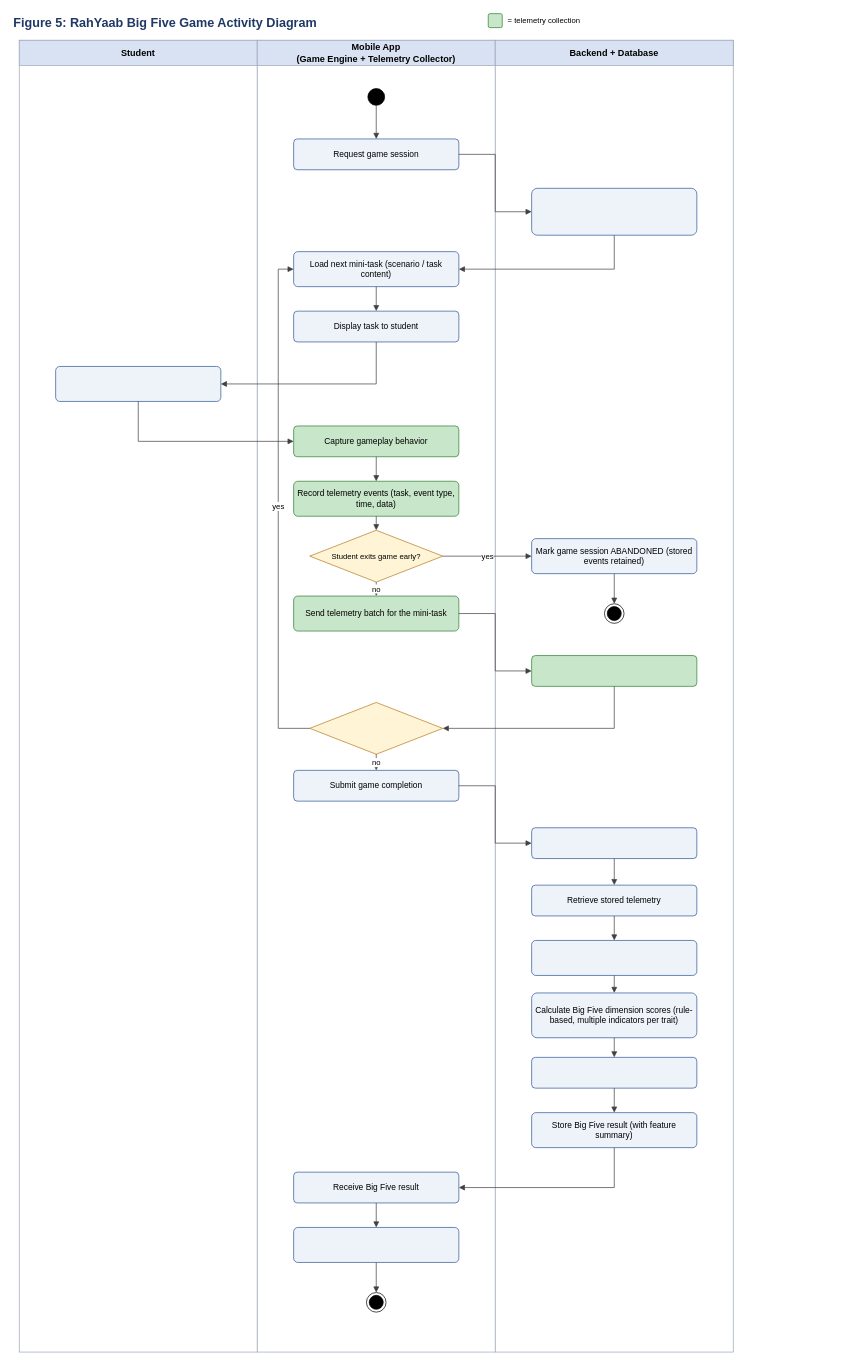
Image size: 864x1364. Some labels were removed from this diagram. The shapes that lost their labels are listed below. From the top down, each one's box as (x1, y1, x2, y2) in pixels, then its label:
(531, 188, 697, 235): Create game session (IN_PROGRESS); return session id and game version
(55, 366, 221, 401): Interact with task (choices, taps, retries)
(531, 655, 697, 686): Validate and store game events
(309, 702, 443, 754): More mini-tasks?
(531, 827, 697, 859): Mark game session COMPLETED
(531, 940, 697, 975): Extract behavioral features per mini-task
(531, 1057, 697, 1088): Generate Big Five profile
(293, 1227, 459, 1262): Return to assessment workflow (continue to RIASEC questionnaire)
